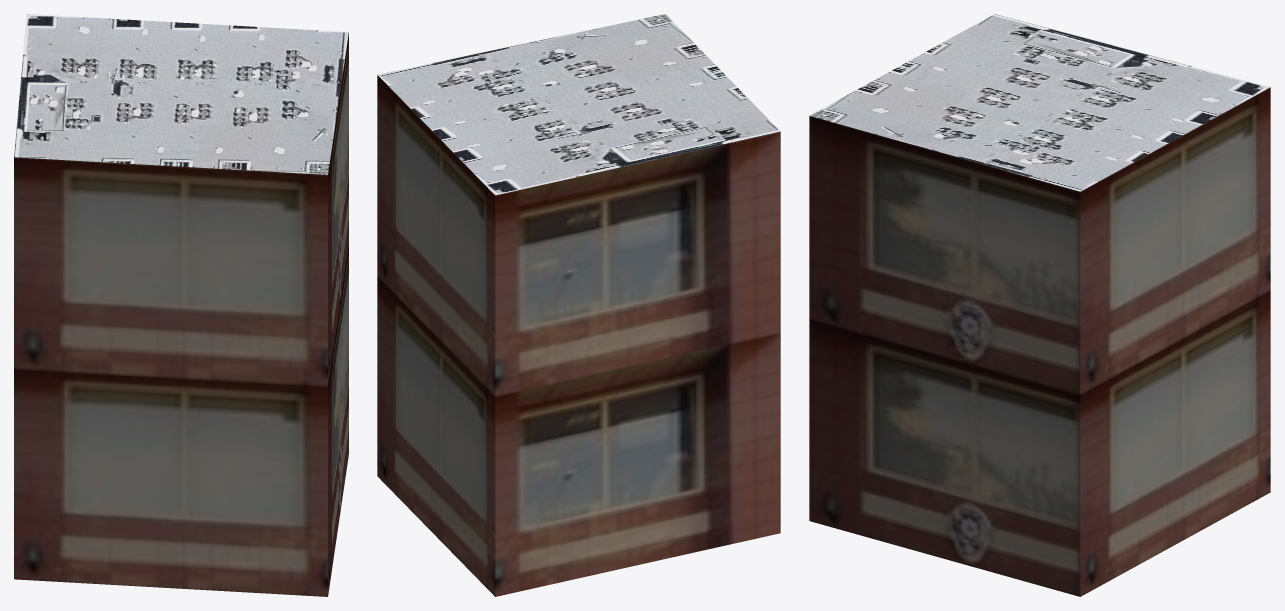
Rendered from ResTex__4792.fbx.
The picture shows the model from 3 angles, left to right: view 1: azimuth 30°, elevation 25°; view 2: azimuth 150°, elevation 25°; view 3: azimuth 270°, elevation 25°; orthographic projection. The views are drawn at different scales.
Parts seen in each view (by area): view 1: CityEngineMaterial_13_m, CityEngineMaterial_4_m; view 2: CityEngineMaterial_13_m, CityEngineMaterial_4_m; view 3: CityEngineMaterial_13_m, CityEngineMaterial_4_m.
Part boxes in pixels (box(x1,y1,x2,y2)): CityEngineMaterial_13_m: box(14, 33, 348, 596); CityEngineMaterial_4_m: box(14, 14, 348, 174); CityEngineMaterial_13_m: box(377, 75, 780, 596); CityEngineMaterial_4_m: box(377, 14, 780, 195); CityEngineMaterial_13_m: box(809, 87, 1270, 596); CityEngineMaterial_4_m: box(809, 14, 1269, 191).
Size of the model in its own units: 5.65 by 6 by 6.19.
2 materials, 2 textured.
